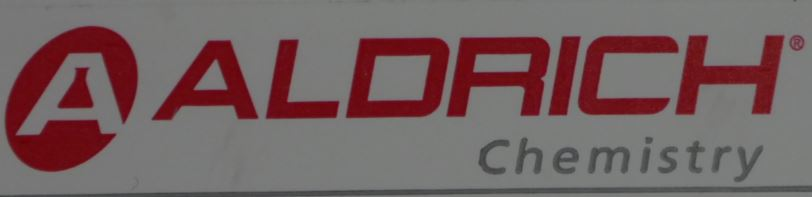SigmaAldrich: (2, 18, 811, 183)
